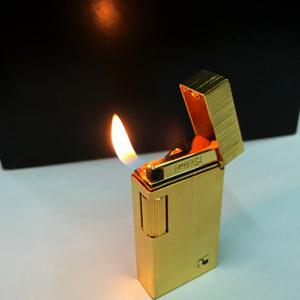fire: (106, 107, 151, 181)
